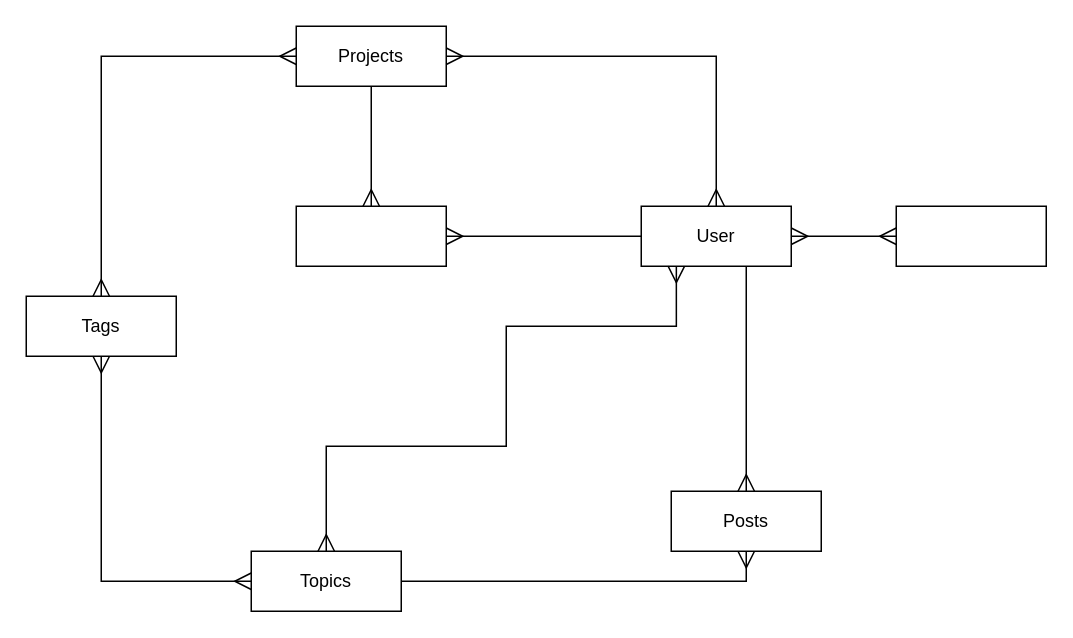
Some shapes in this 1073 by 638 pixel diagram are drawn without their labels. The centre of each missing label's shape, as x and y in pixels:
Notifications: the point at 970,235
Tasks: the point at 370,235
